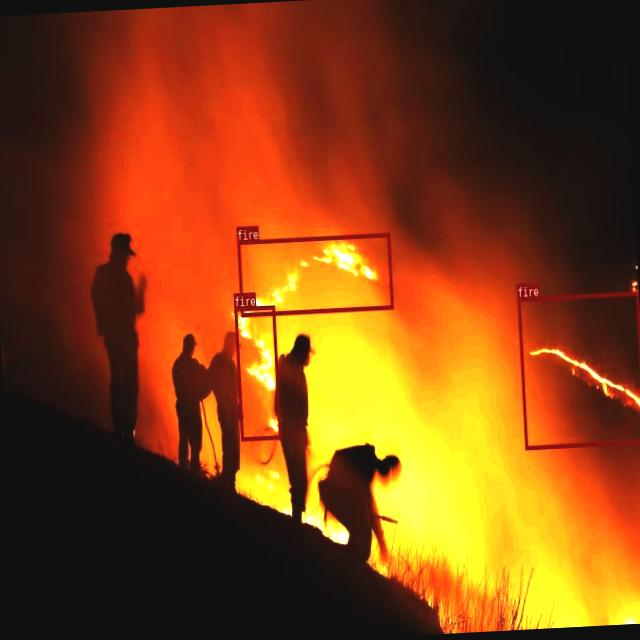fire: (517, 291, 640, 448), (236, 232, 392, 316), (234, 305, 282, 441)
